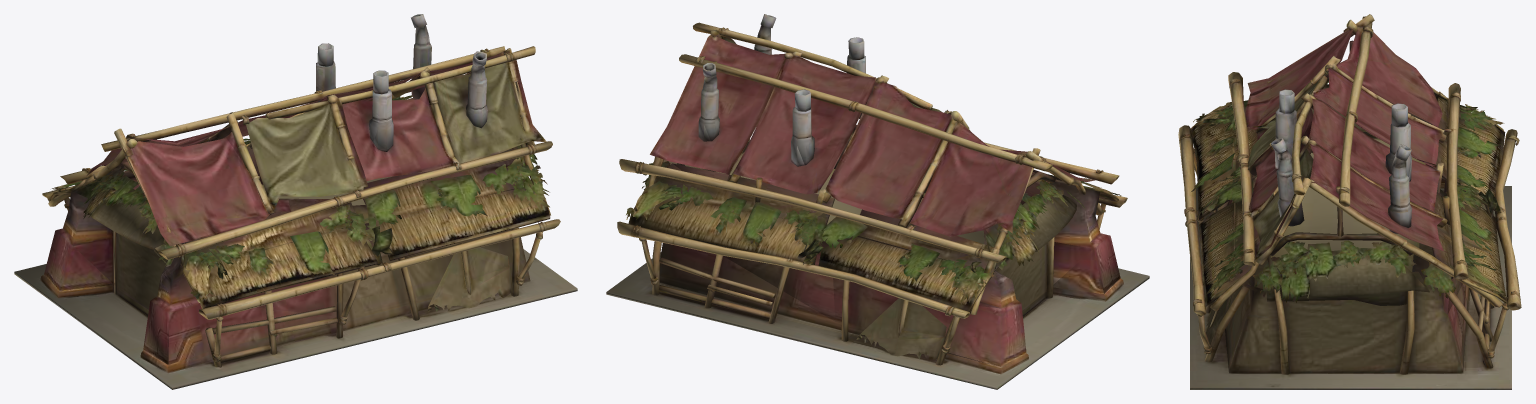
File: bamboo_hide.glb
The picture shows the model from 3 angles, left to right: view 1: azimuth 30°, elevation 25°; view 2: azimuth 150°, elevation 25°; view 3: azimuth 270°, elevation 25°; orthographic projection. The views are drawn at different scales.
Parts seen in each view (by area): view 1: Body, Trim; view 2: Body, Trim; view 3: Body, Trim.
Boxes of the visible parts, x1=… form: Body: x1=14, y1=14, x2=577, y2=389; Trim: x1=44, y1=50, x2=532, y2=364; Body: x1=606, y1=14, x2=1149, y2=389; Trim: x1=650, y1=35, x2=1120, y2=366; Body: x1=1178, y1=14, x2=1521, y2=389; Trim: x1=1228, y1=17, x2=1462, y2=314.
Size of the model in its own units: 11.45 by 5.76 by 8.
Materials: 2 (2 with a texture image).
